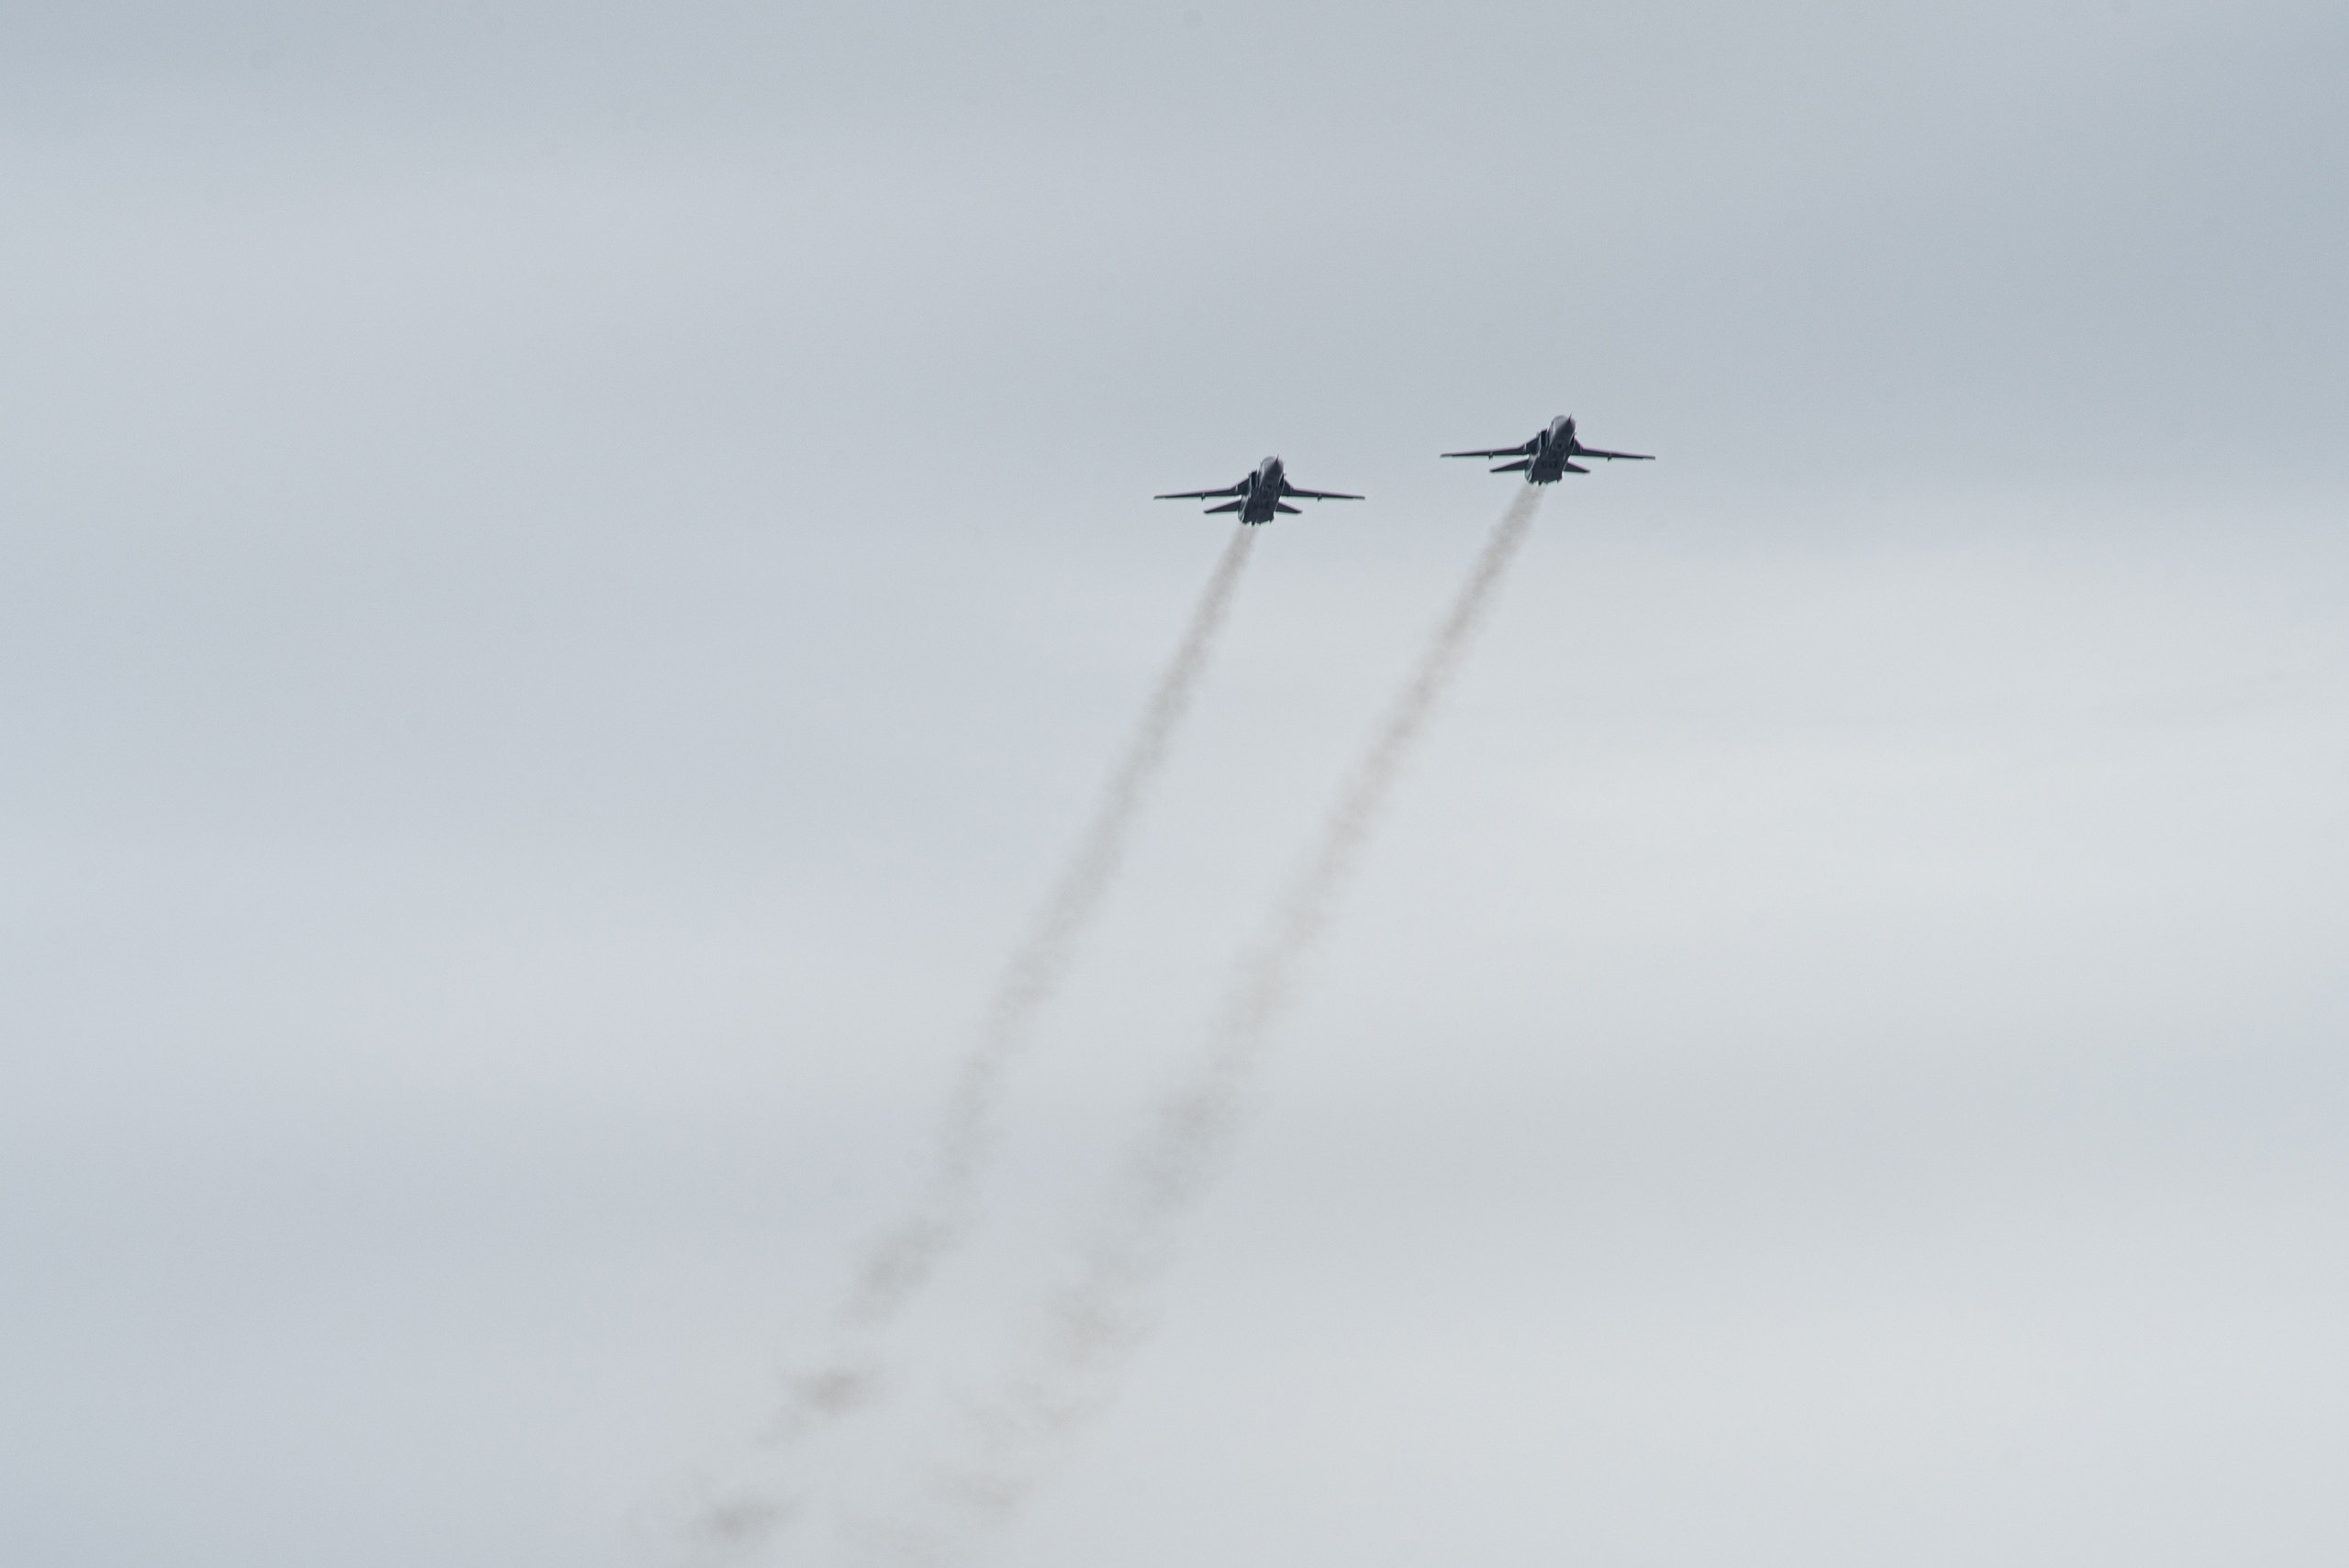airplane: (1439, 411, 1656, 487), (1152, 453, 1367, 527)
